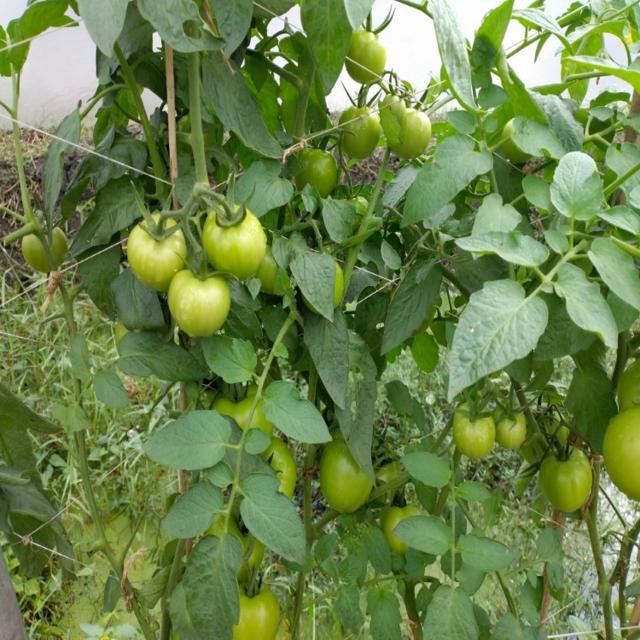tomato: (125, 208, 192, 286), (199, 198, 268, 272), (166, 266, 229, 335), (544, 442, 597, 515), (386, 99, 439, 165), (602, 405, 640, 496), (318, 445, 371, 510), (452, 403, 496, 465), (234, 583, 281, 639), (344, 32, 388, 89), (341, 104, 383, 163), (298, 145, 340, 191), (490, 401, 528, 451), (21, 235, 66, 274), (214, 392, 264, 427), (389, 499, 433, 525), (277, 447, 297, 498), (619, 362, 640, 406)
